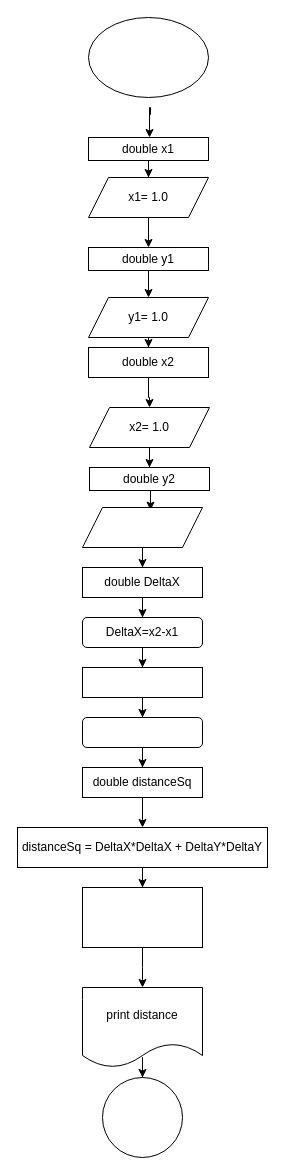
The diagram is 285 pixels wide and 1175 high, and some of its shapes have lost their labels. The shapes that lost their labels are listed below. From the top down, each one's box as (x1, y1, x2, y2) in pixels, then its label:
(88, 16, 208, 98): start
(82, 506, 202, 548): y2= 1.0
(82, 666, 202, 698): double DeltaY
(82, 716, 202, 748): DeltaY=y2-y1
(82, 886, 202, 948): distance=sqrt distanceSq
(102, 1076, 182, 1158): end
